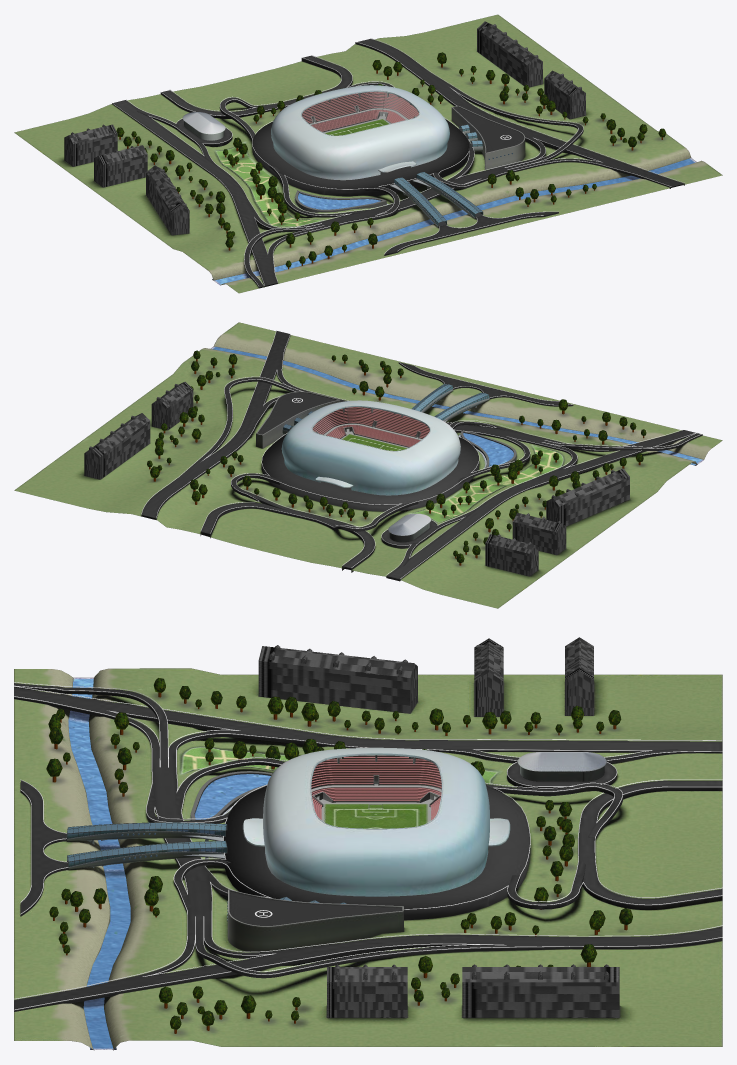
The model's file is stadion.fbx.
3 renders of one model, top to bottom at view 1: azimuth 30°, elevation 25°; view 2: azimuth 150°, elevation 25°; view 3: azimuth 270°, elevation 25°, orthographic. The views are drawn at different scales.
Parts seen in each view (by area): view 1: Plane, Krysha, Tribuna, Etajy; view 2: Plane, Krysha, Tribuna, Etajy; view 3: Plane, Krysha, Tribuna, Etajy.
Part boxes in pixels (left/top/right/bottom): Plane: left=14, top=14, right=722, bottom=293; Krysha: left=271, top=85, right=449, bottom=180; Tribuna: left=302, top=91, right=418, bottom=132; Etajy: left=313, top=111, right=390, bottom=135; Plane: left=14, top=322, right=722, bottom=608; Krysha: left=281, top=400, right=460, bottom=495; Tribuna: left=312, top=407, right=429, bottom=447; Etajy: left=341, top=426, right=418, bottom=450; Plane: left=14, top=637, right=722, bottom=1050; Krysha: left=242, top=747, right=510, bottom=896; Tribuna: left=311, top=755, right=441, bottom=820; Etajy: left=316, top=784, right=436, bottom=828.
Bounding box in the file's own units: 8784 × 829 × 7070.
